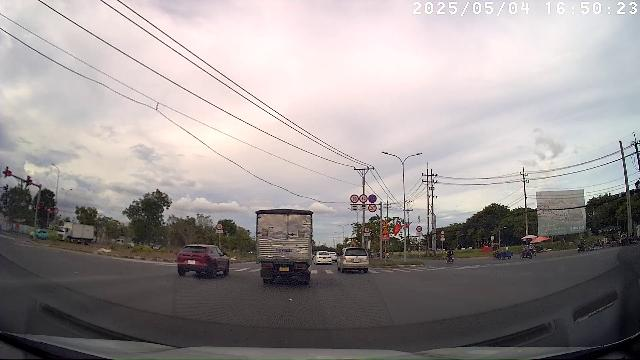127-toc-do-toi-da-60: (359, 194, 368, 203)
127-toc-do-toi-da-80: (350, 194, 359, 203)
130-cam-dung-va-do-xe: (369, 194, 377, 203)
